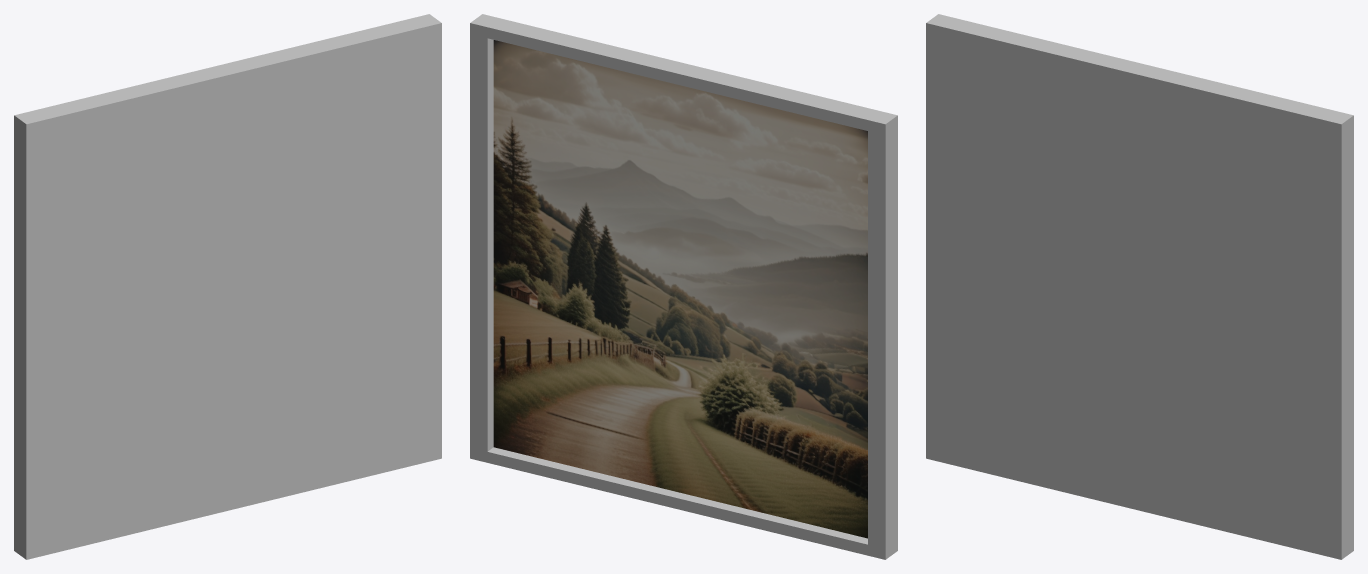
Rendered from MEDIUM PHOTO FRAME.fbx.
3 views of the same model, side by side, from view 1: azimuth 30°, elevation 25°; view 2: azimuth 150°, elevation 25°; view 3: azimuth 330°, elevation 25° (orthographic).
Visible parts, largest first — view 1: MEDIUM PHOTO FRAME; view 2: MEDIUM PHOTO FRAME; view 3: MEDIUM PHOTO FRAME.
Part boxes in pixels (bbox=[...]): MEDIUM PHOTO FRAME: bbox=[14, 14, 441, 559]; MEDIUM PHOTO FRAME: bbox=[470, 14, 897, 559]; MEDIUM PHOTO FRAME: bbox=[926, 14, 1353, 559].
Bounding box in the file's own units: 0.965 × 0.9671 × 0.0496.
